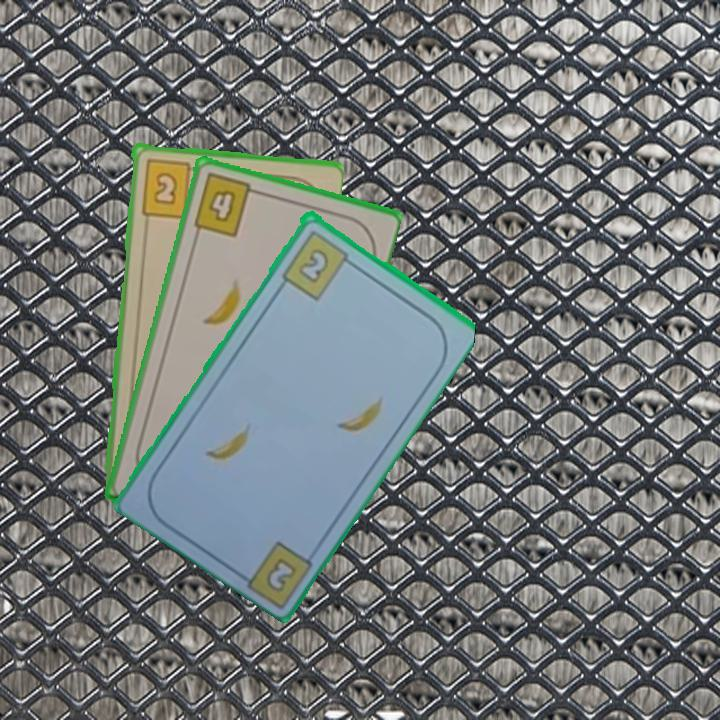2b: (278, 226, 358, 302), (137, 155, 202, 220), (262, 553, 299, 595)
4b: (189, 169, 263, 240)
